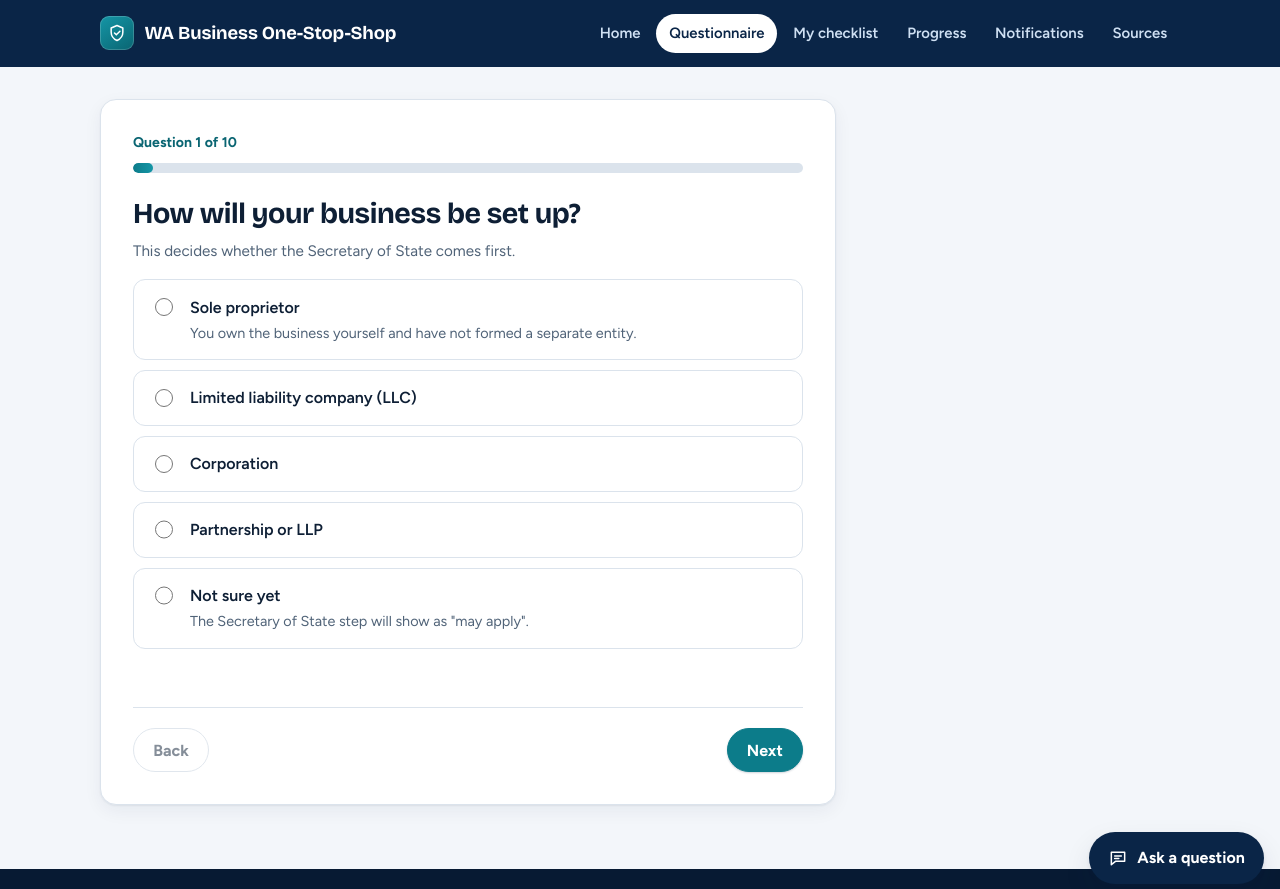
questionnaire › still asks for the business type when the description is blank, with nothing preselected
The width and height of the screenshot is (1280, 889).
Click the radio button labelled "Sole proprietor" at (164, 307), box top-left (155, 298), bottom-right (173, 316)
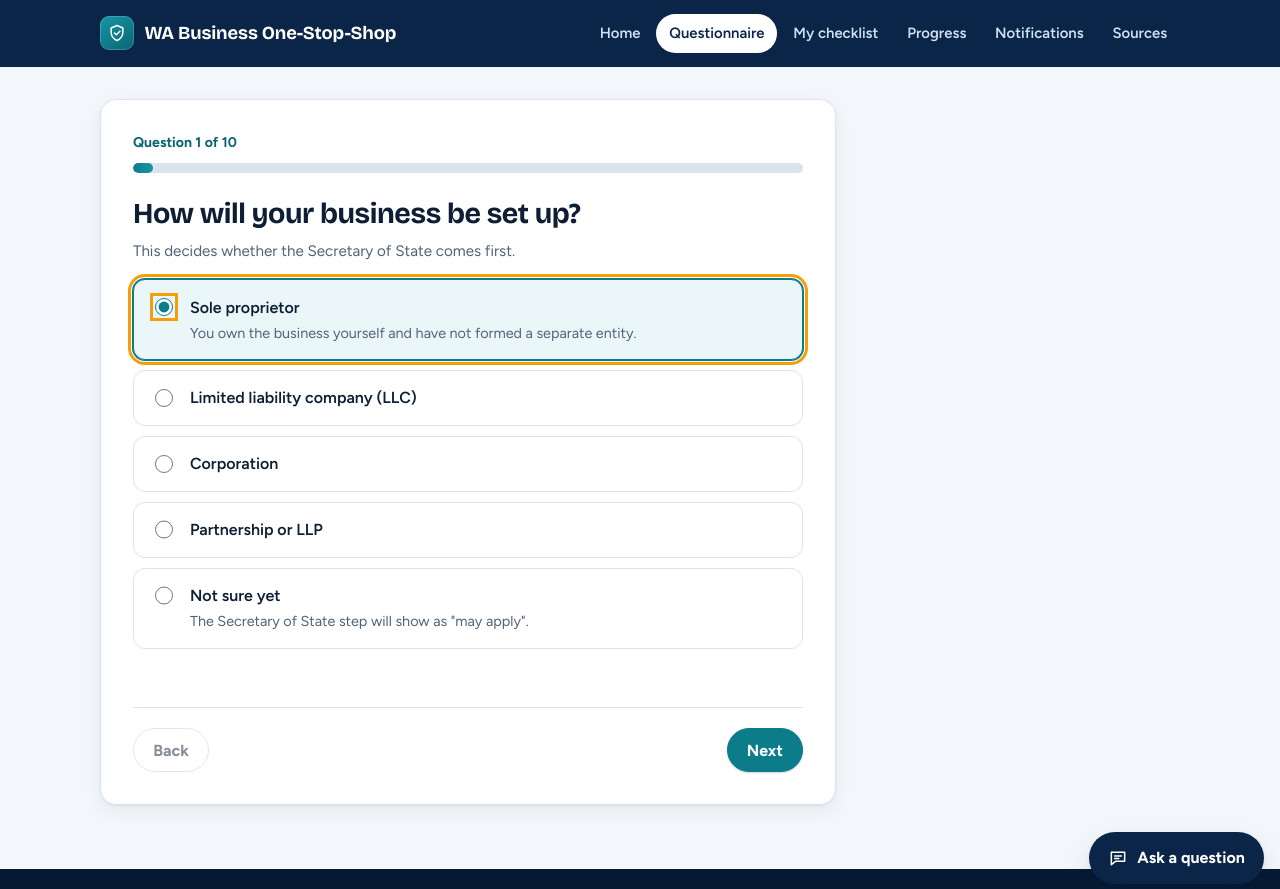
Click the button "Next" at (765, 750), box top-left (727, 728), bottom-right (803, 772)
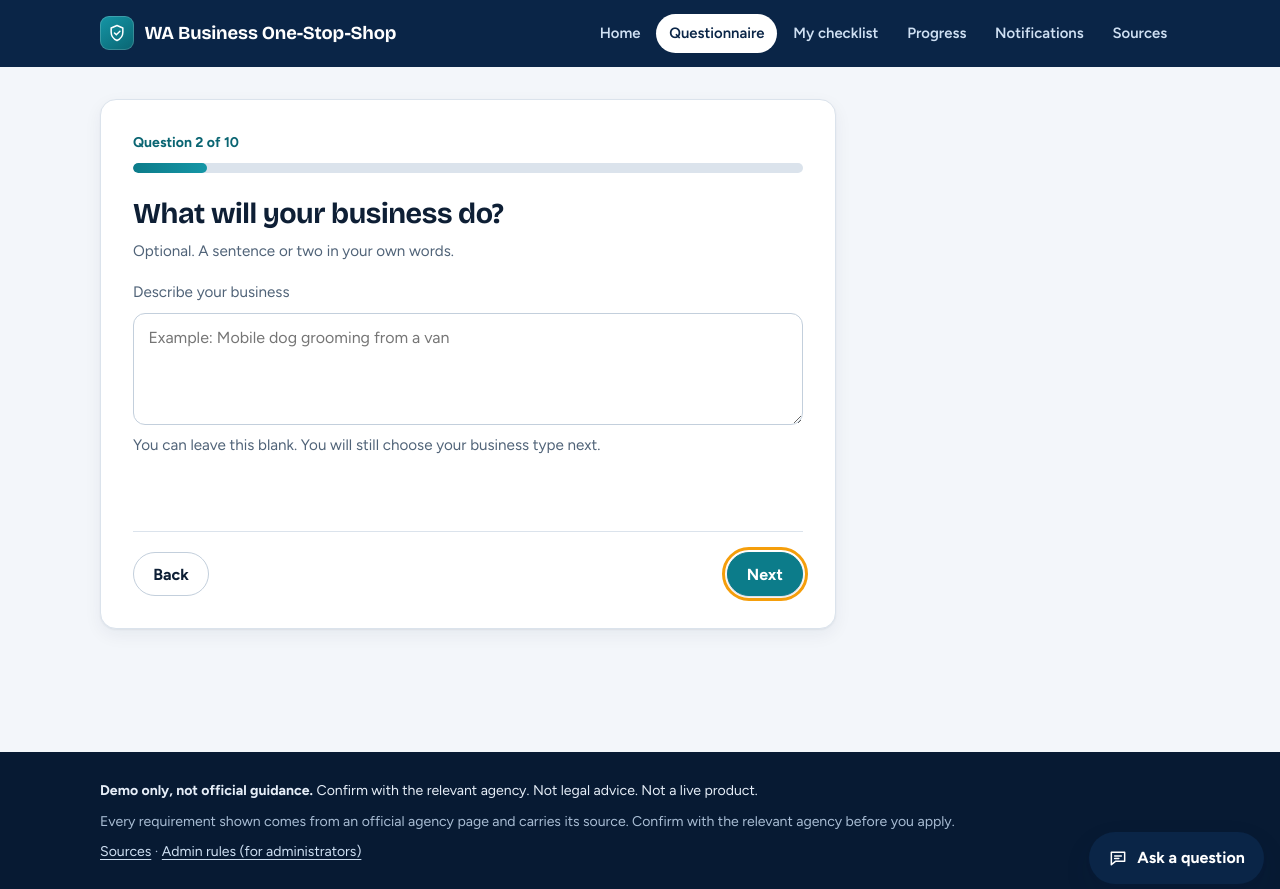
Click the button "Next" at (765, 574), box top-left (727, 552), bottom-right (803, 596)
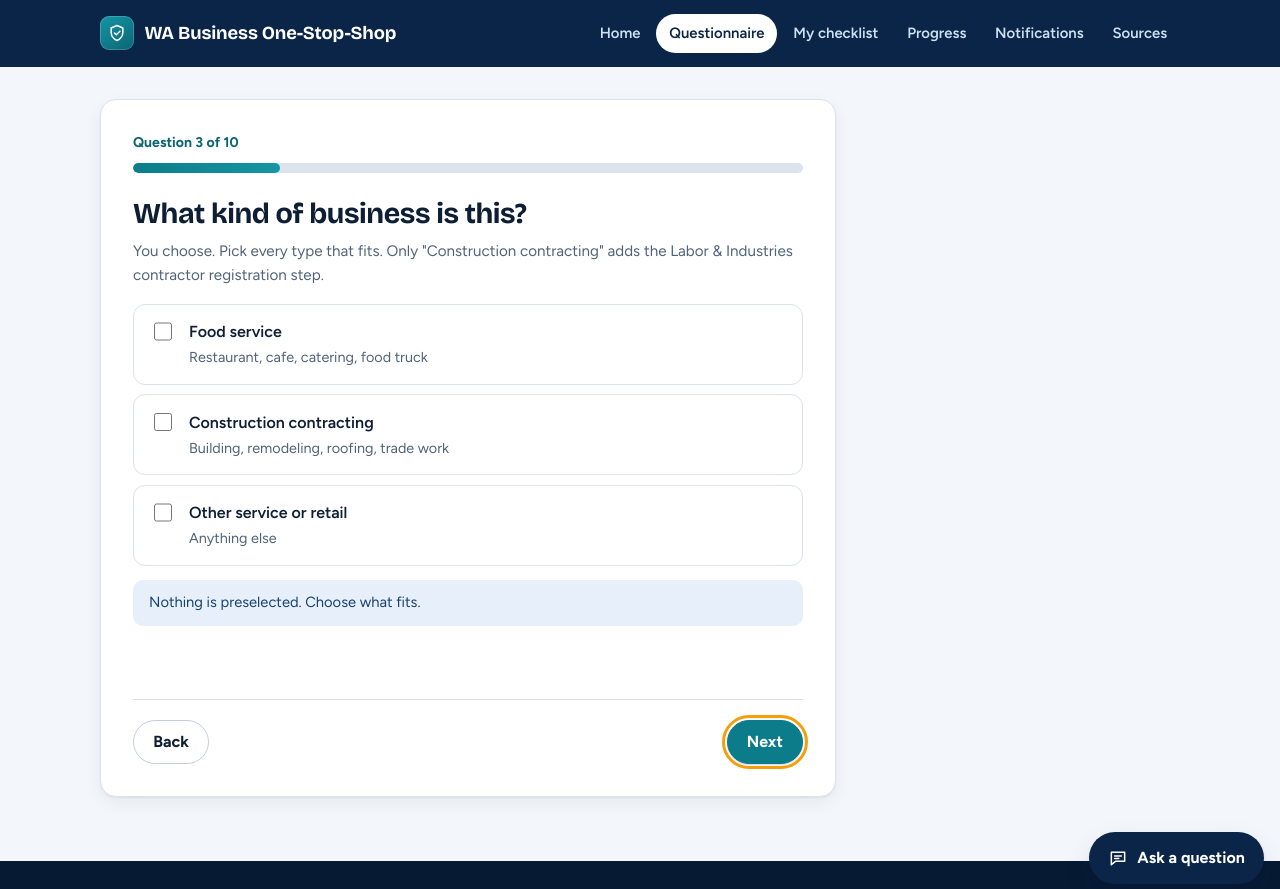
Now the text "What kind of business is this?" is shown, box top-left (133, 196), bottom-right (526, 231)
Now the text "Only \"Construction contracting\" adds the Labor & Industries contractor registration step" is shown, box top-left (133, 242), bottom-right (793, 284)
Now the checkbox labelled "Construction contracting" is not checked
Click the checkbox labelled "Construction contracting" at (163, 422), box top-left (154, 413), bottom-right (172, 431)
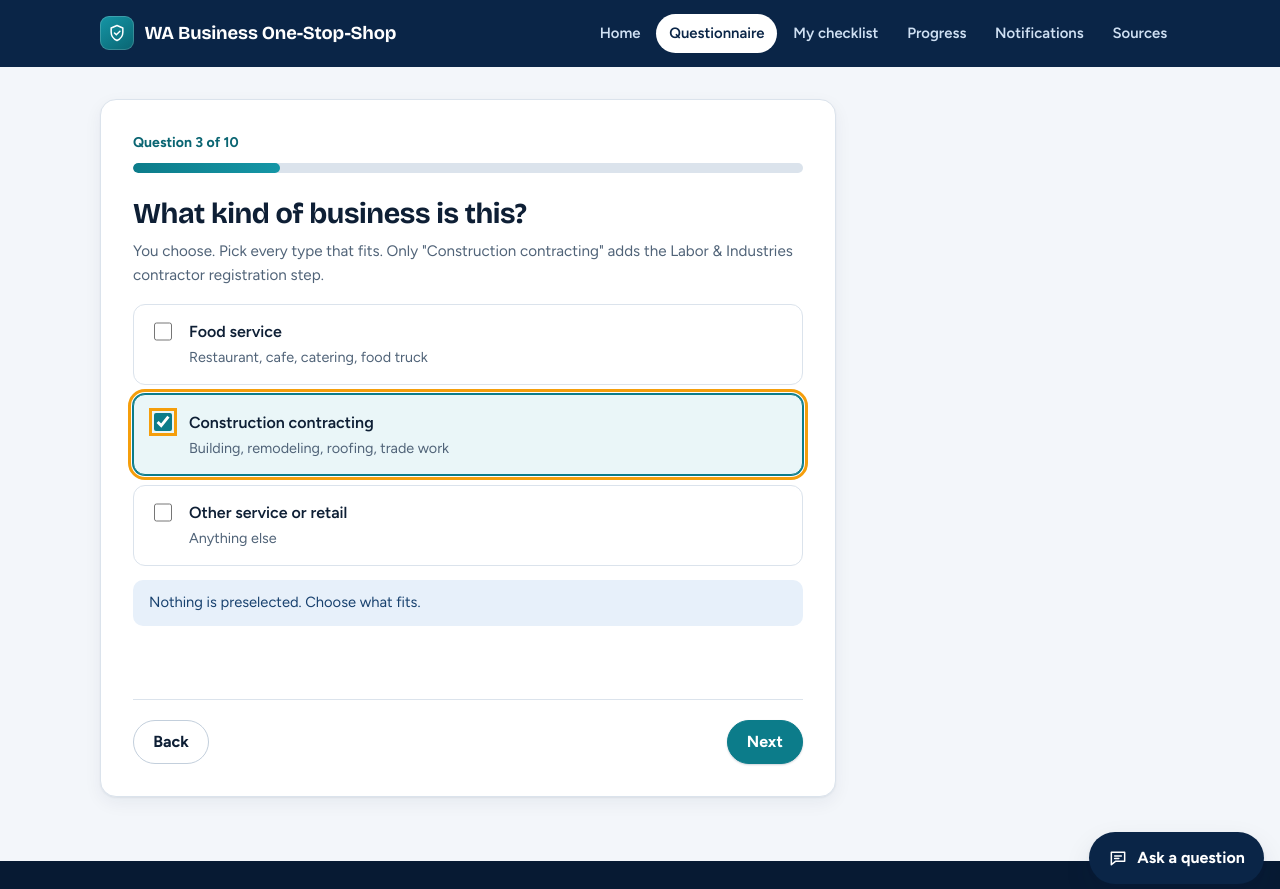
Click the button "Next" at (765, 742), box top-left (727, 720), bottom-right (803, 764)
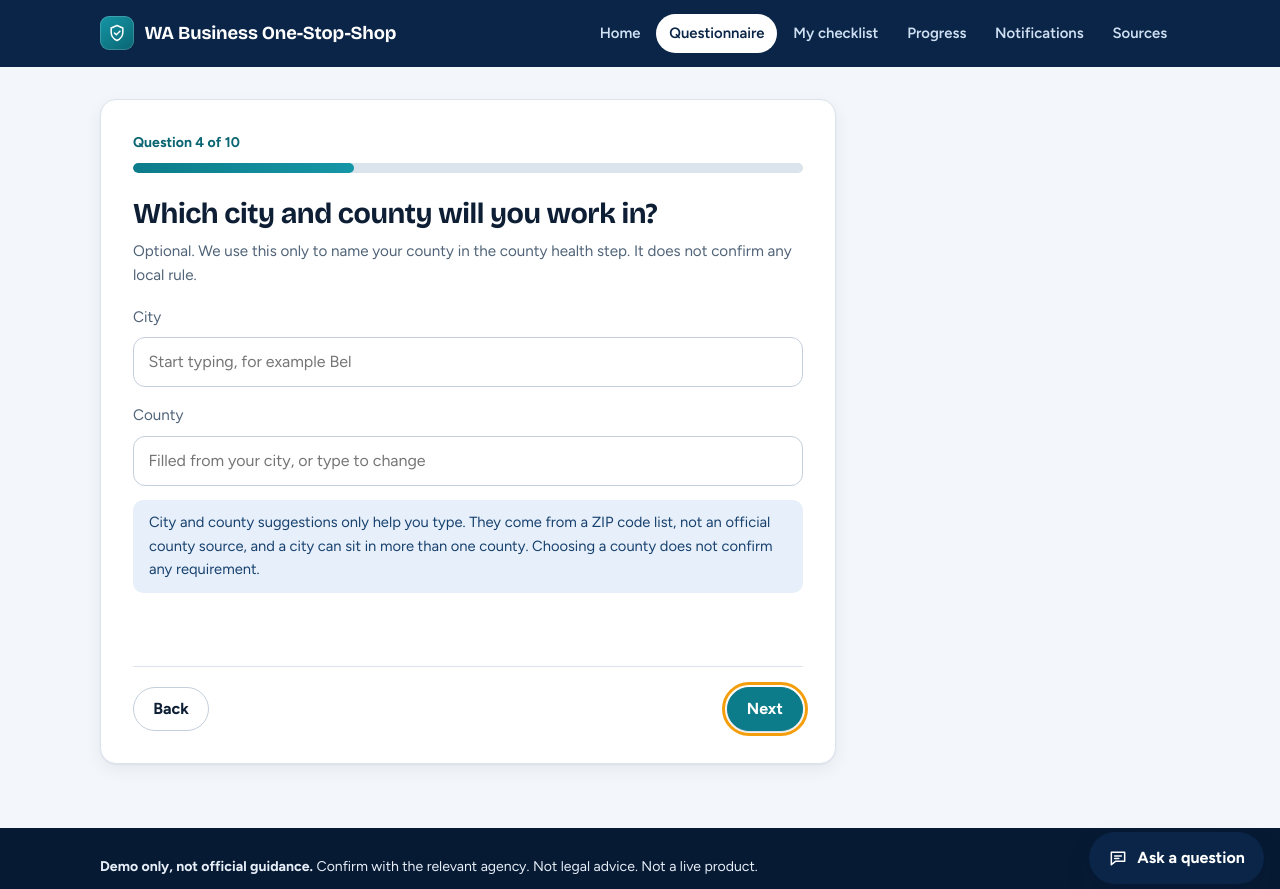
Now the text "Which city and county will you work in?" is shown, box top-left (133, 196), bottom-right (657, 231)
